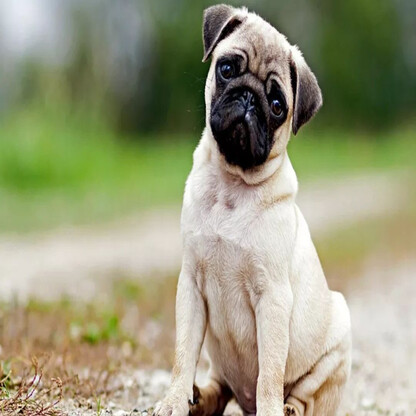Pug: (146, 1, 361, 416)
